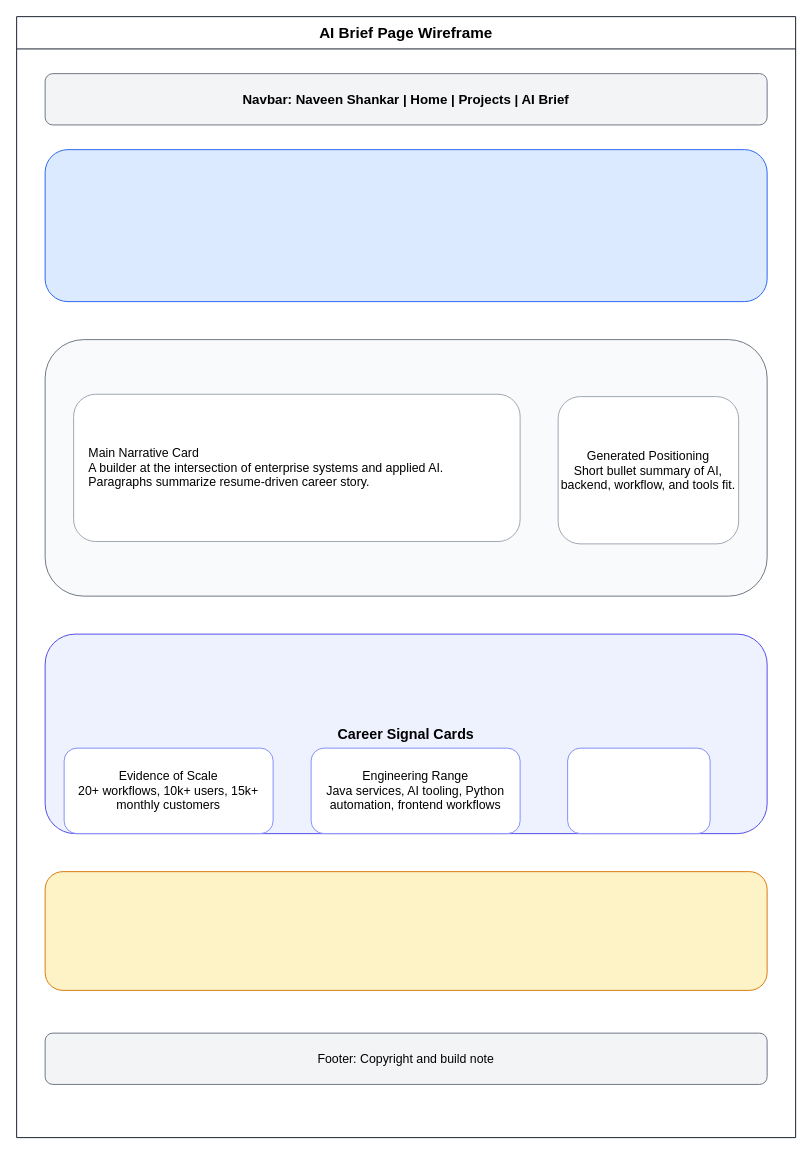
Some shapes in this 812 by 1154 pixel diagram are drawn without their labels. Here are the shapes that lost their labels. From the top down, the centre of each, then its label:
At (405,225): "Page Hero AI-Generated Companion Page Career brief generated from resume context".
At (638,790): "Leadership Potential Mentoring and innovation awards in banking environment".
At (405,930): "Generative AI Disclosure".
